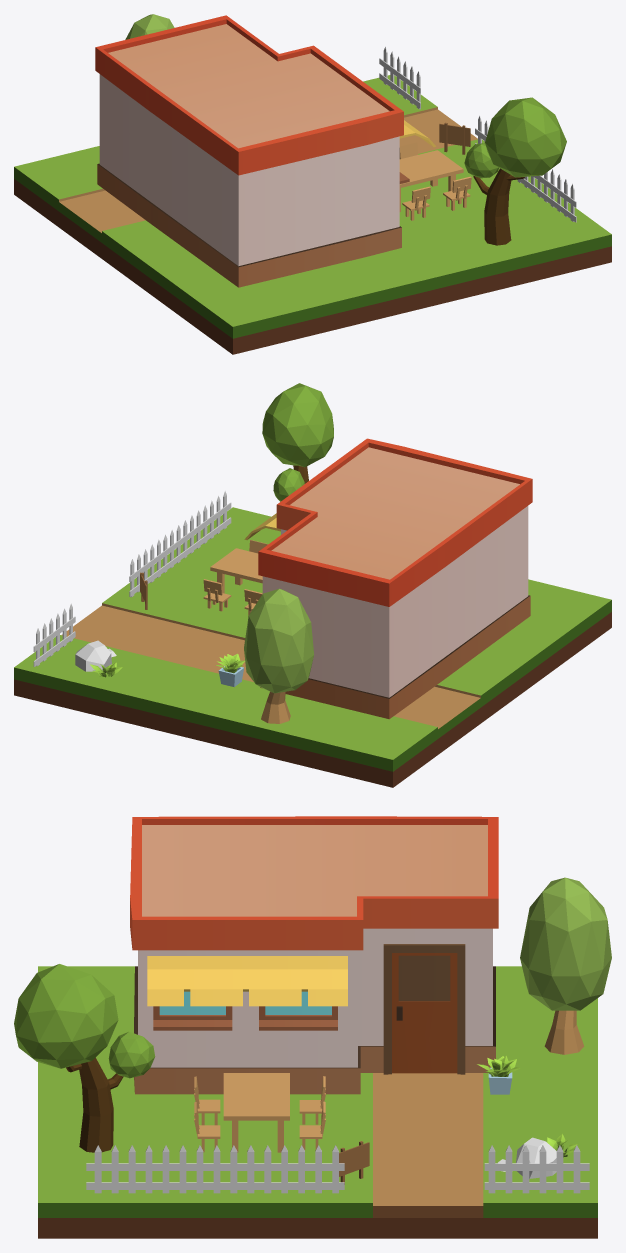
The model's file is house2.fbx.
The picture shows the model from 3 angles, top to bottom: view 1: azimuth 30°, elevation 25°; view 2: azimuth 150°, elevation 25°; view 3: azimuth 270°, elevation 25°; orthographic projection. The views are drawn at different scales.
Visible parts, largest first — view 1: Cube.006, Plane.002, Cube.008, Plane.004, Cube.013, Cube.012, Circle, Plane.003, Cube.016; view 2: Cube.006, Plane.002, Circle, Cube.008, Plane.004, Cube.013, Cube.012, Cube.010, Cube.009, Cube.016; view 3: Cube.006, Plane.002, Cube.008, Circle, Plane.004, Cube.013, Cube.012, Cube.016, Cube.009, Plane.003, Cube.010.
Part boxes in pixels (x1,y1,x2,y2): Cube.006: (95,15,435,287); Plane.002: (14,75,611,354); Cube.008: (464,97,566,245); Plane.004: (399,142,471,220); Cube.013: (478,116,574,221); Cube.012: (475,128,576,222); Circle: (125,14,174,39); Plane.003: (439,122,470,154); Cube.016: (383,47,420,109); Cube.006: (244,438,532,719); Plane.002: (14,507,611,787); Circle: (244,588,314,723); Cube.008: (262,383,333,501); Plane.004: (203,540,268,616); Cube.013: (130,491,226,597); Cube.012: (129,502,231,596); Cube.010: (75,640,111,671); Cube.009: (215,653,244,686); Cube.016: (36,603,72,666); Cube.006: (130,816,498,1094); Plane.002: (38,966,597,1238); Cube.008: (14,964,155,1152); Circle: (520,877,611,1054); Plane.004: (194,1073,325,1152); Cube.013: (94,1145,338,1193); Cube.012: (86,1163,344,1189); Cube.016: (488,1145,580,1193); Cube.009: (477,1055,520,1094); Plane.003: (339,1141,369,1184); Cube.010: (516,1137,556,1178).
Bounding box in the file's own units: 896 × 396 × 956.
